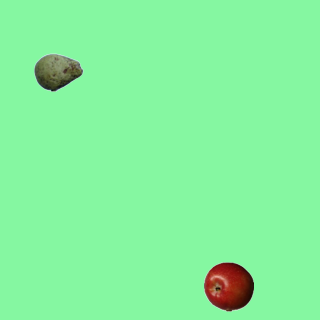Apple Braeburn: (203, 261, 253, 311)
Pear Stone: (33, 47, 83, 97)
